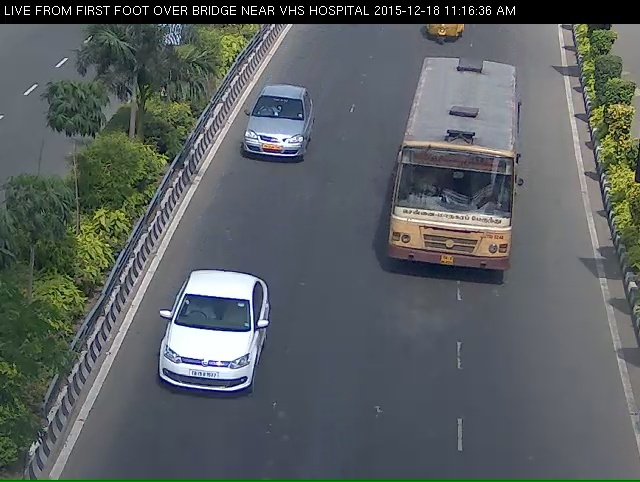Auto: (420, 23, 465, 48)
Bus: (394, 55, 521, 295)
Car: (151, 286, 264, 426), (238, 87, 315, 166)
